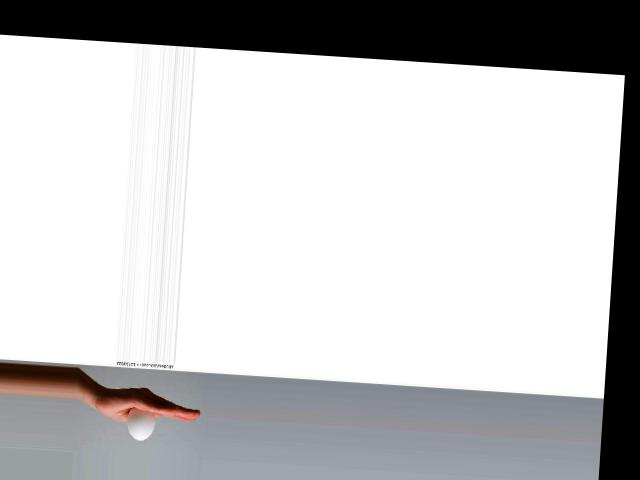egg: (127, 406, 155, 440)
